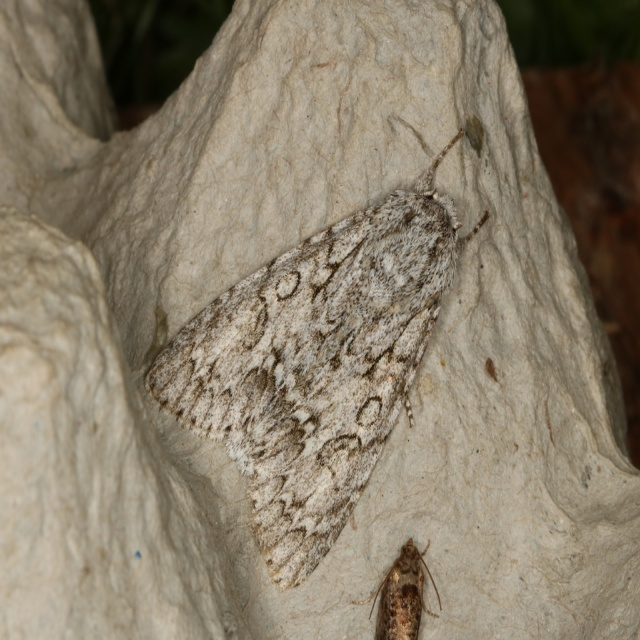Moths and butterflies: (141, 123, 492, 592), (350, 535, 443, 639)
